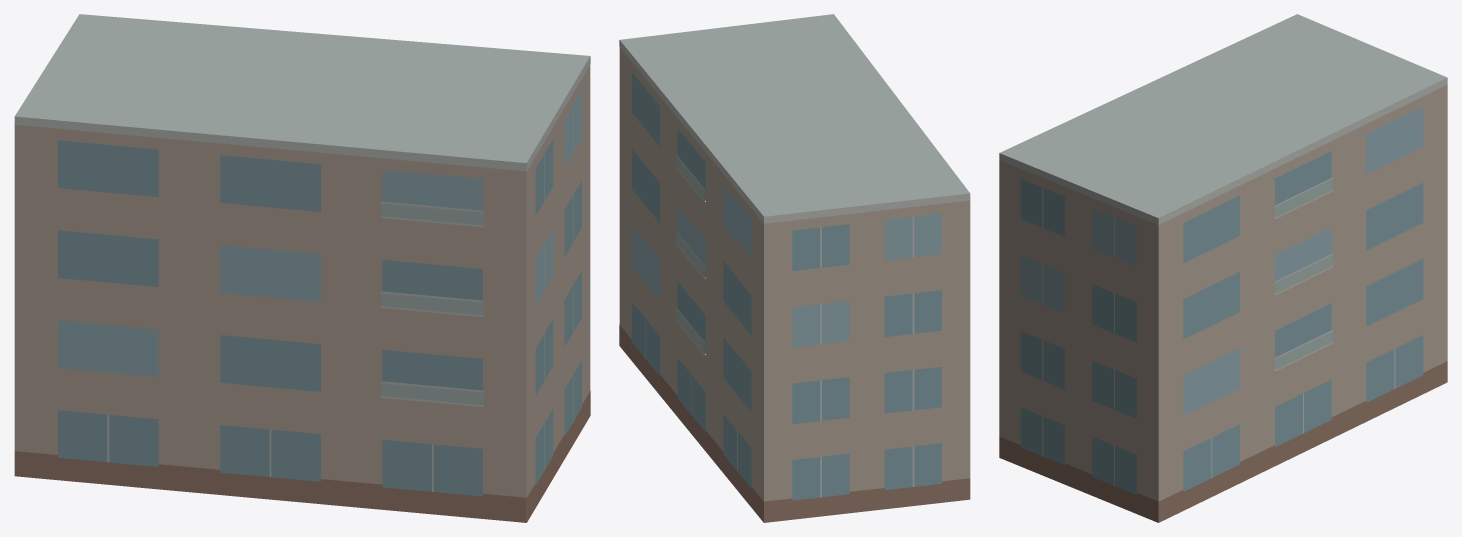
File: survey-upis-32942028.glb
3 views of the same model, side by side, from view 1: azimuth 30°, elevation 25°; view 2: azimuth 150°, elevation 25°; view 3: azimuth 270°, elevation 25° (orthographic). The views are drawn at different scales.
Parts seen in each view (by area): view 1: survey-upis-32942028.tmp; view 2: survey-upis-32942028.tmp; view 3: survey-upis-32942028.tmp.
Boxes of the visible parts, left/top/right/bottom form: survey-upis-32942028.tmp: left=14, top=14, right=590, bottom=522; survey-upis-32942028.tmp: left=619, top=14, right=970, bottom=522; survey-upis-32942028.tmp: left=999, top=14, right=1447, bottom=522.
Bounding box in the file's own units: 15.31 × 10.65 × 14.21.
